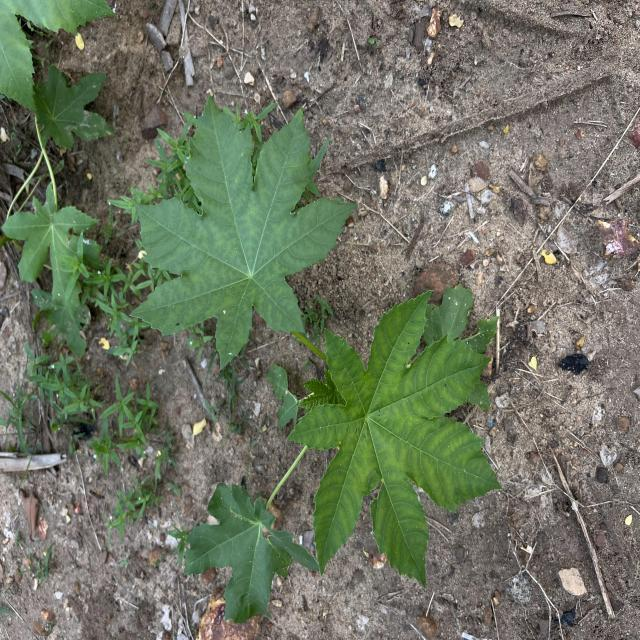Ricinus communis linn: (126, 85, 360, 378), (284, 286, 504, 594)
